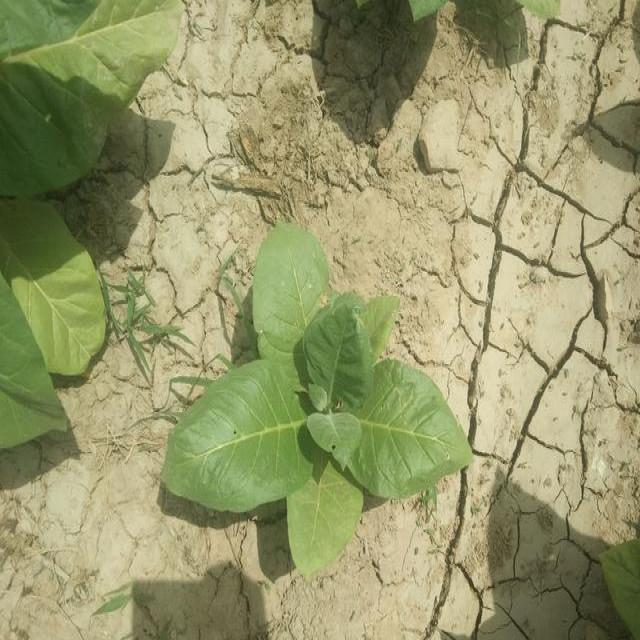crop: (186, 244, 458, 572), (2, 3, 178, 199), (2, 203, 103, 456)
